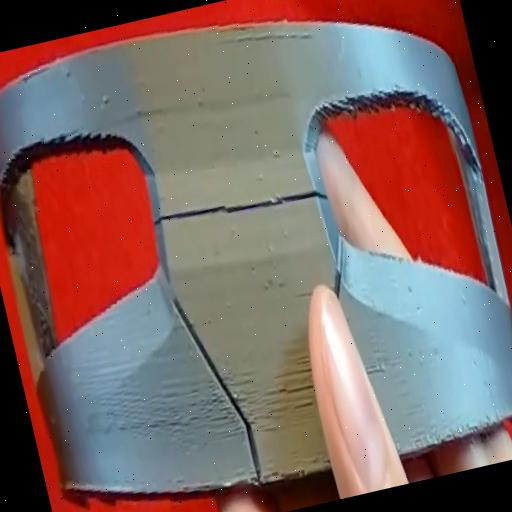cracks: (126, 144, 351, 304), (162, 331, 278, 512)
